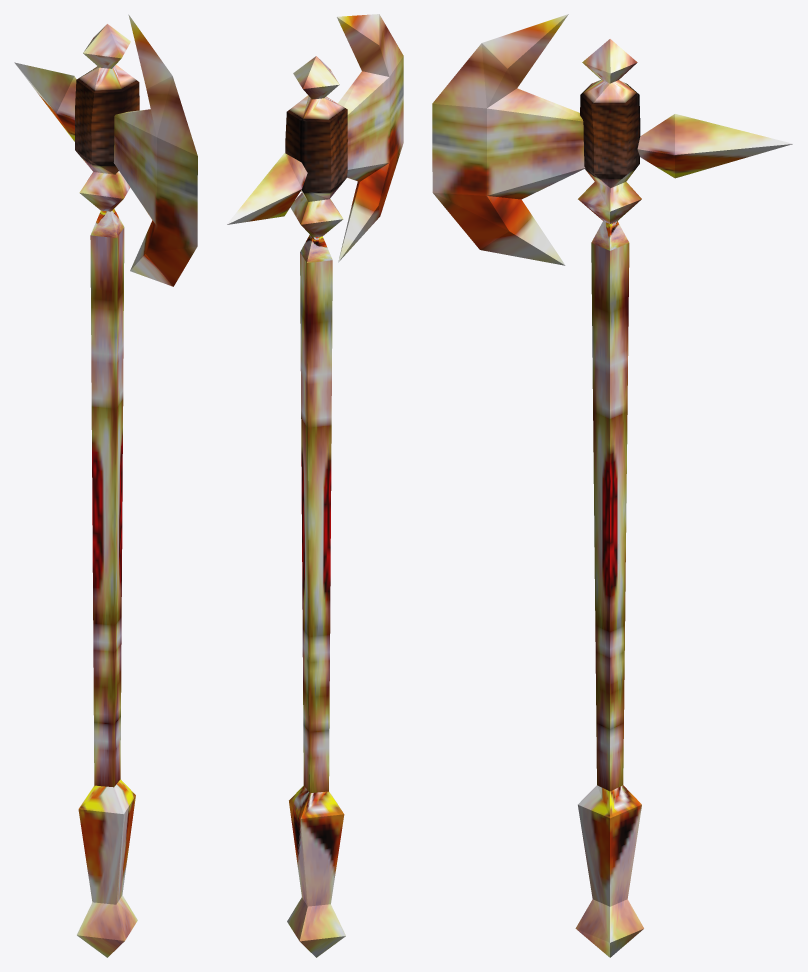
Rendered from heavyaxeman01_3.obj.
3 views of the same model, side by side, from view 1: azimuth 30°, elevation 25°; view 2: azimuth 150°, elevation 25°; view 3: azimuth 270°, elevation 25° (orthographic). The views are drawn at different scales.
Parts seen in each view (by area): view 1: heavyaxeman01_3; view 2: heavyaxeman01_3; view 3: heavyaxeman01_3.
Part boxes in pixels (x1,y1,x2,y2): heavyaxeman01_3: (14, 14, 197, 957); heavyaxeman01_3: (226, 14, 403, 957); heavyaxeman01_3: (432, 14, 792, 957).
Size of the model in its own units: 0.1988 by 2.97 by 1.03.
